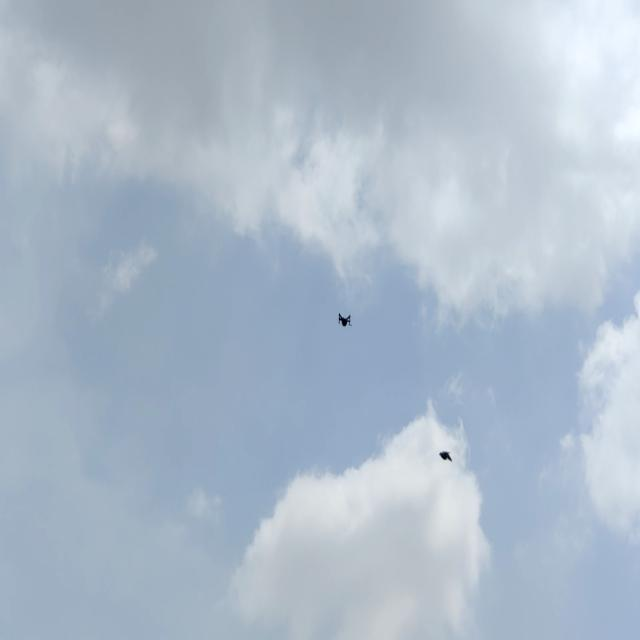drone: (333, 304, 359, 332)
